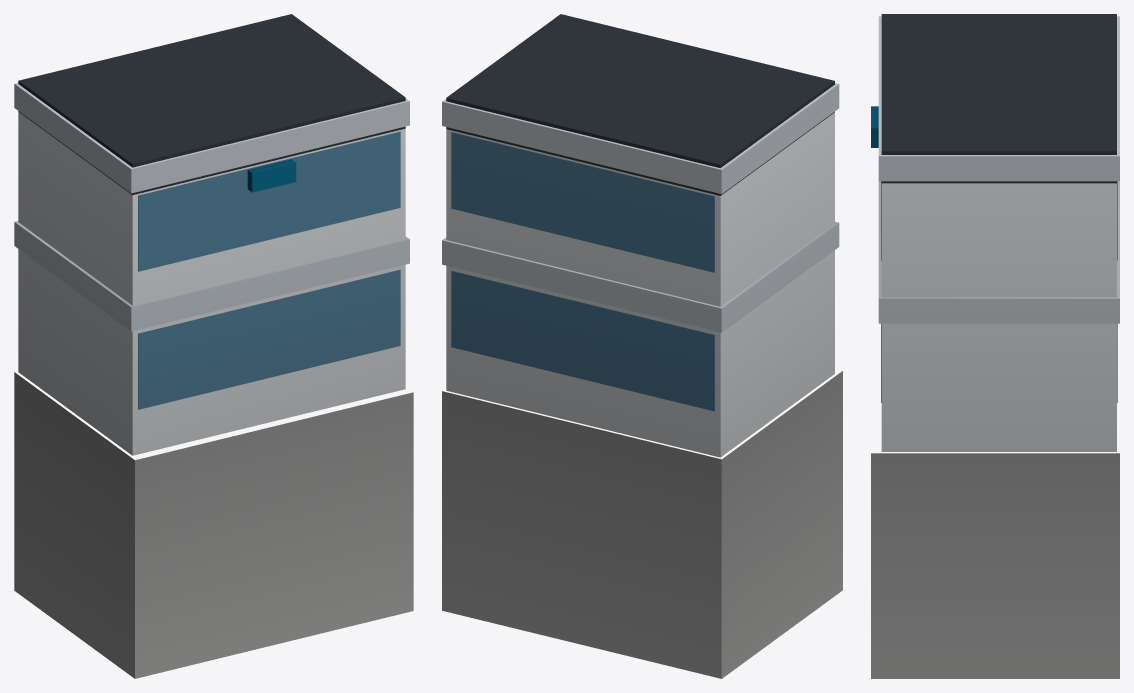
The model's file is marshal-post.glb.
3 views of the same model, side by side, from view 1: azimuth 30°, elevation 25°; view 2: azimuth 150°, elevation 25°; view 3: azimuth 270°, elevation 25° (orthographic). The views are drawn at different scales.
Parts seen in each view (by area): view 1: marshal-post; view 2: marshal-post; view 3: marshal-post.
Boxes of the visible parts, x1,y1,x2,y2 form: marshal-post: [14, 14, 413, 678]; marshal-post: [442, 14, 842, 678]; marshal-post: [871, 14, 1119, 678].
Bounding box in the file's own units: 4 × 7 × 3.
